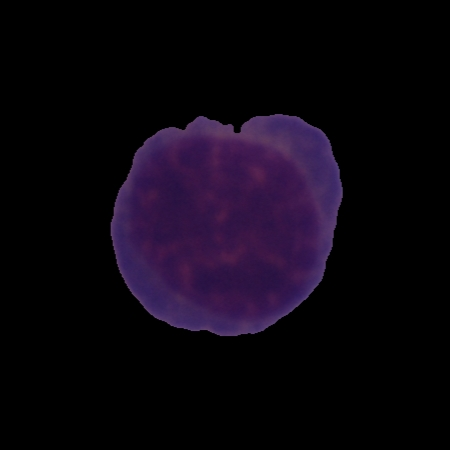ALL: (107, 110, 346, 339)
